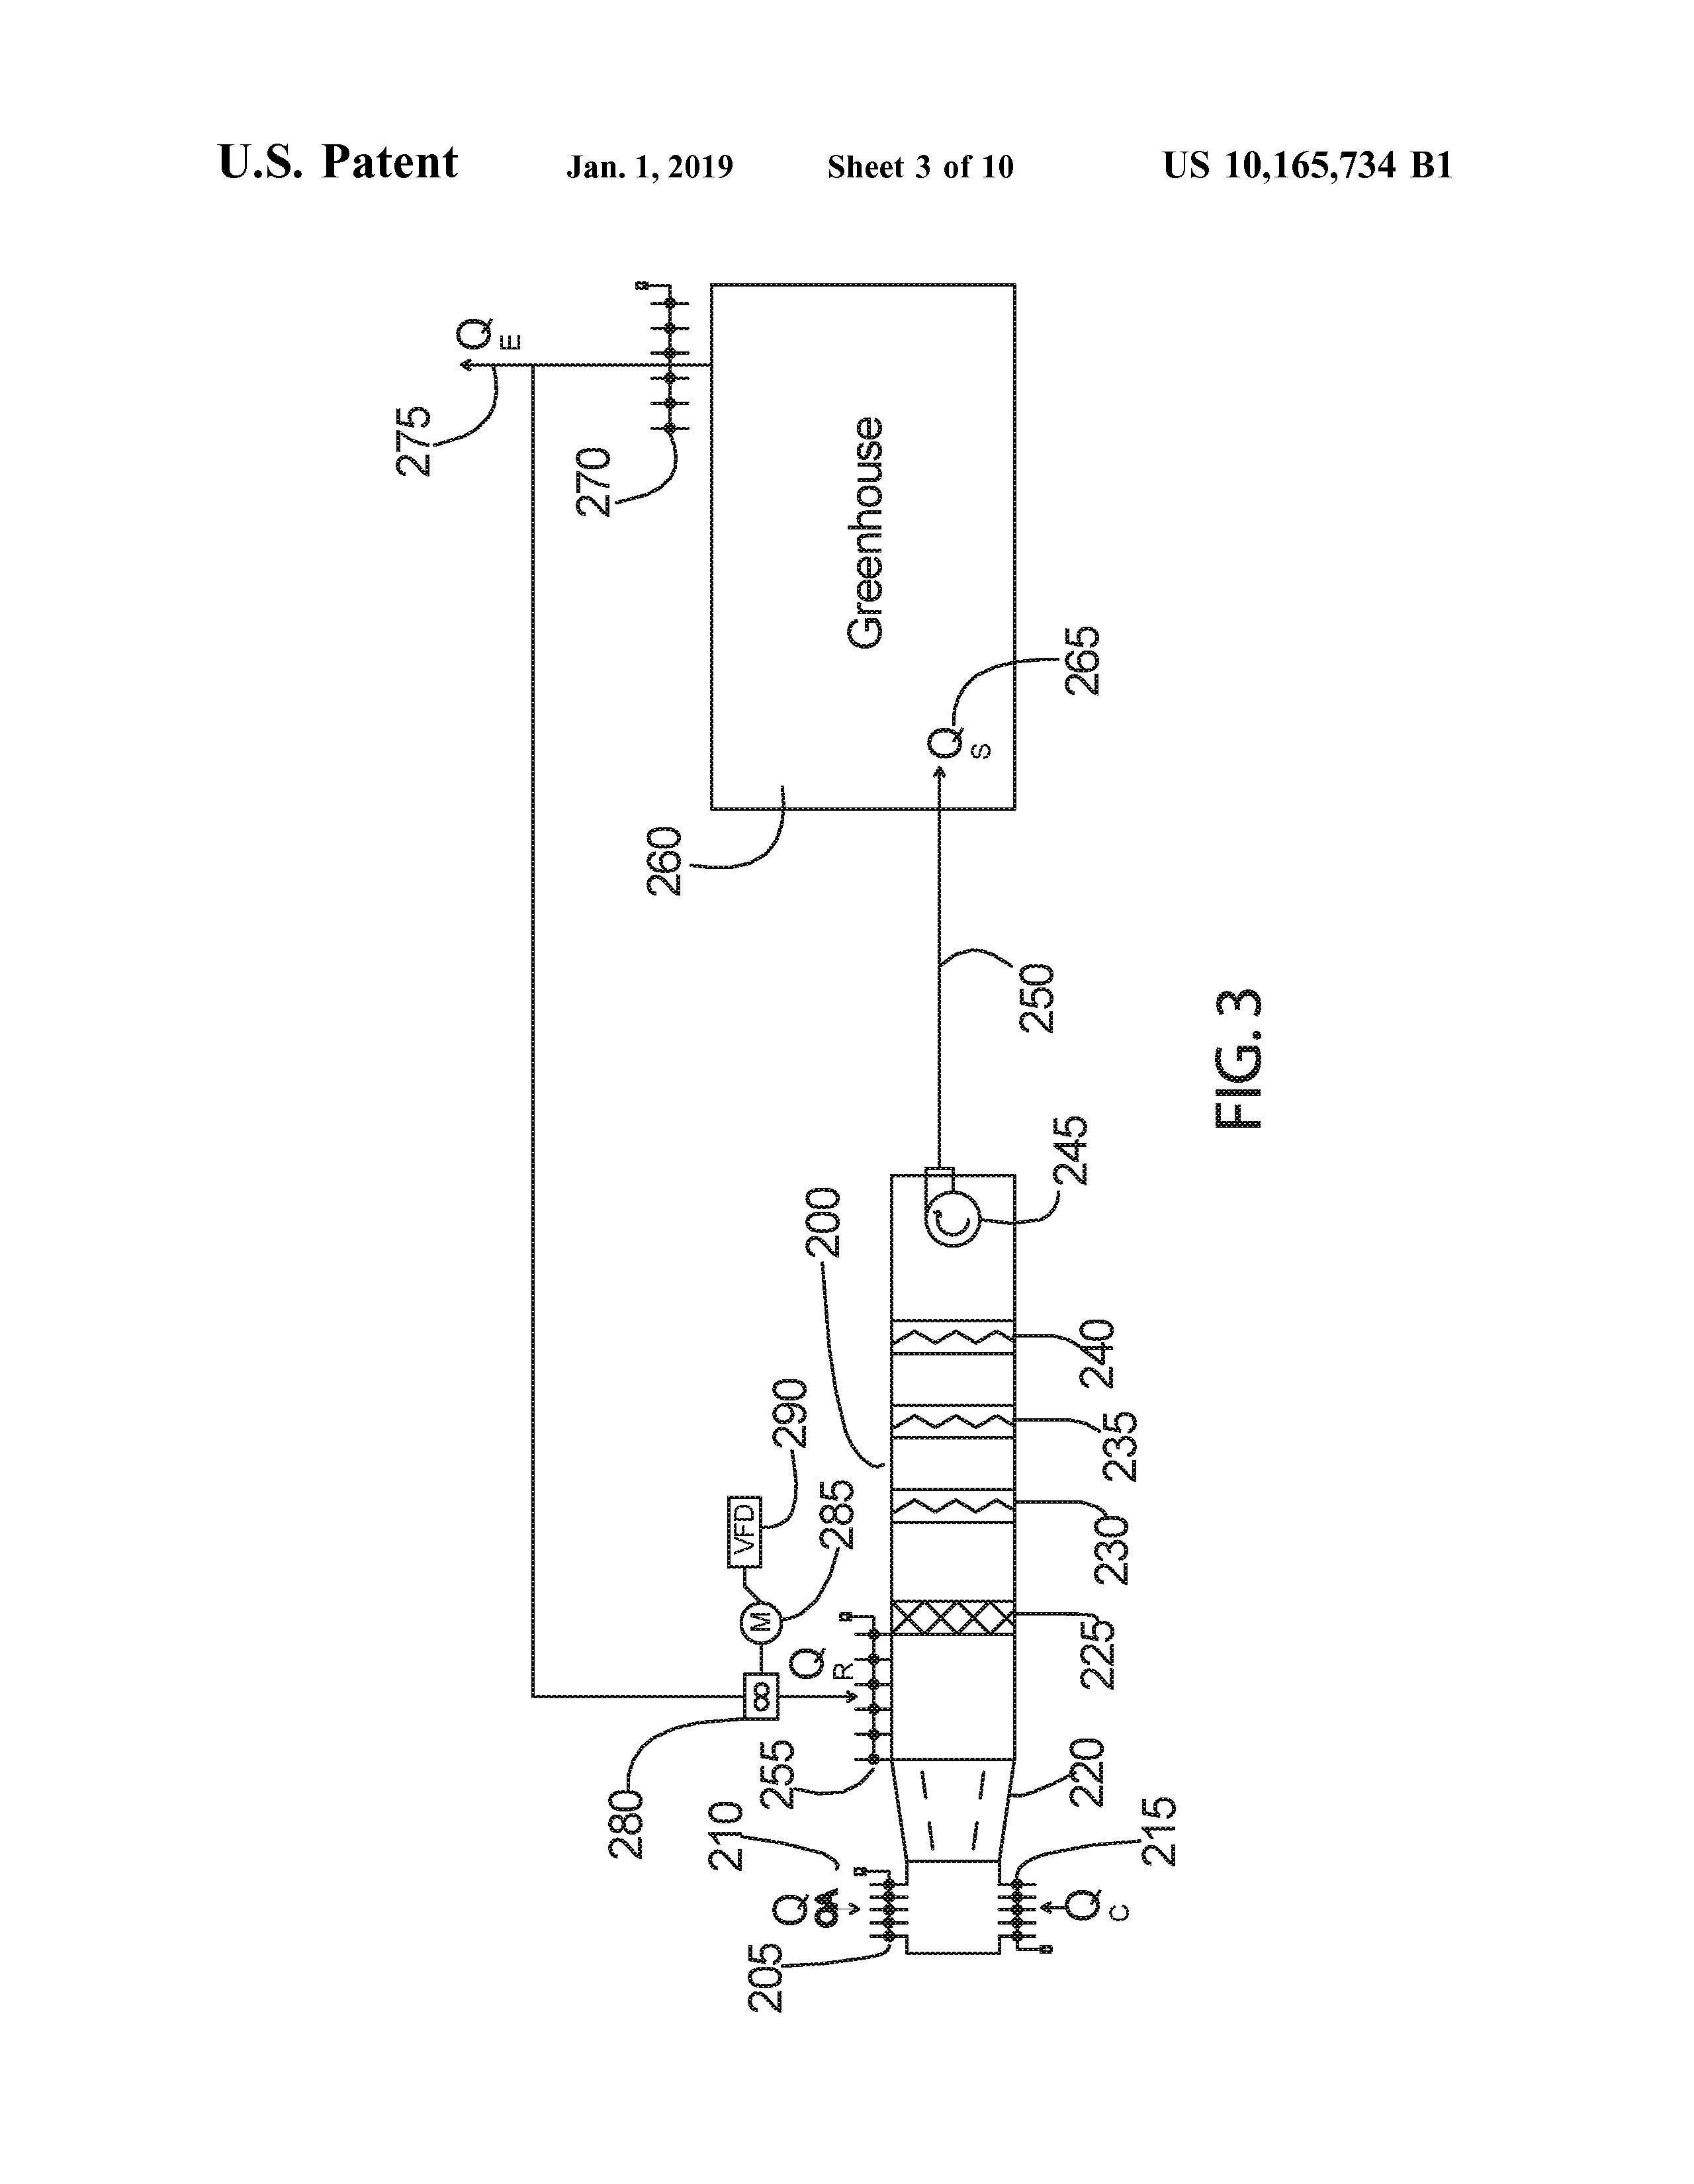patent image: (362, 256, 1334, 2037)
